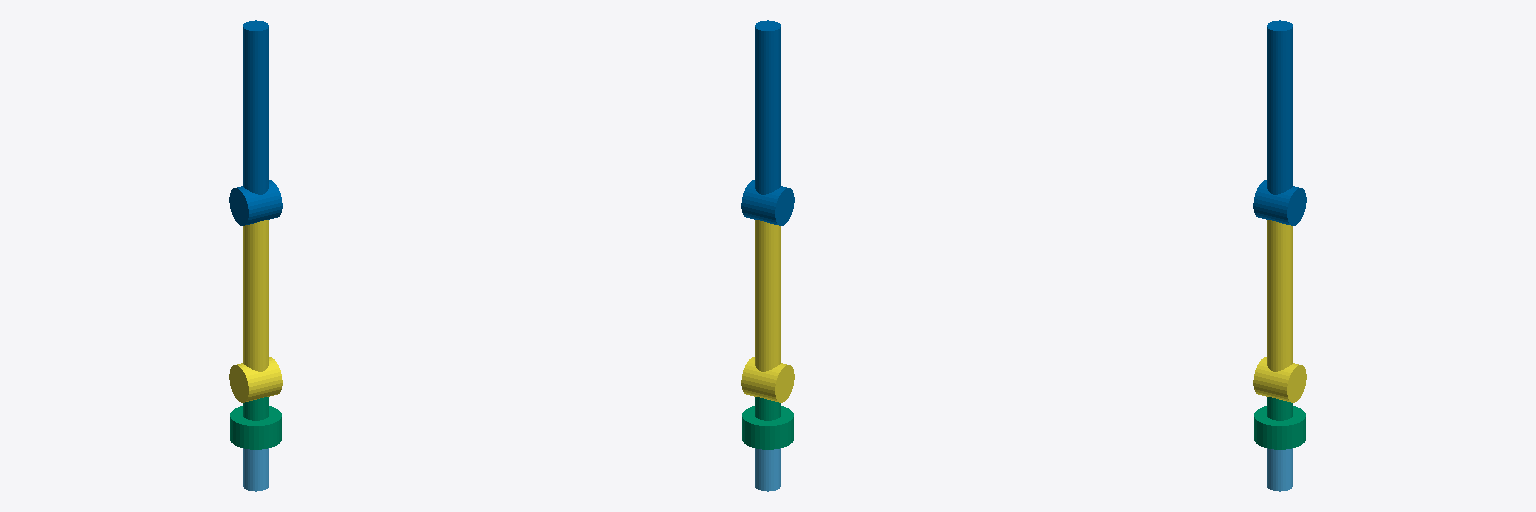
URDF robot description (Chaser):
<?xml version='1.0' encoding='UTF-8'?>
<robot name="Chaser">
  <link name="world">
    <inertial>
      <origin xyz="0.0 0.0 0.0" rpy="0.0 -0.0 0.0"/>
      <mass value="1.0"/>
      <inertia ixx="1.0" ixy="0.0" ixz="0.0" iyy="1.0" iyz="0.0" izz="1.0"/>
    </inertial>
  </link>
  <link name="Link_0">
    <inertial>
      <origin xyz="0.0 0.0 0.125" rpy="0.0 0.0 0.0"/>
      <mass value="5.0"/>
      <inertia ixx="0.05" ixy="0.0" ixz="0.0" iyy="0.05" iyz="0.0" izz="0.05"/>
    </inertial>
    <visual>
      <geometry>
        <cylinder radius="0.05" length="0.25"/>
      </geometry>
      <origin xyz="0.0 0.0 0.125" rpy="0.0 0.0 0.0"/>
    </visual>
    <collision>
      <geometry>
        <cylinder radius="0.05" length="0.25"/>
      </geometry>
      <origin xyz="0.0 0.0 0.125" rpy="0.0 0.0 0.0"/>
    </collision>
  </link>
  <link name="Link_1">
    <inertial>
      <origin xyz="0.0 0.0 0.1" rpy="0.0 0.0 0.0"/>
      <mass value="5.0"/>
      <inertia ixx="0.05" ixy="0.0" ixz="0.0" iyy="0.05" iyz="0.0" izz="0.05"/>
    </inertial>
    <visual>
      <geometry>
        <cylinder radius="0.05" length="0.2"/>
      </geometry>
      <origin xyz="0.0 0.0 0.1" rpy="0.0 0.0 0.0"/>
    </visual>
    <visual>
      <geometry>
        <cylinder radius="0.1" length="0.1"/>
      </geometry>
      <origin xyz="0.0 0.0 0.0" rpy="0.0 0.0 0.0"/>
    </visual>
    <collision>
      <geometry>
        <cylinder radius="0.05" length="0.2"/>
      </geometry>
      <origin xyz="0.0 0.0 0.1" rpy="0.0 0.0 0.0"/>
    </collision>
    <collision>
      <geometry>
        <cylinder radius="0.1" length="0.1"/>
      </geometry>
      <origin xyz="0.0 0.0 0.0" rpy="0.0 0.0 0.0"/>
    </collision>
  </link>
  <link name="Link_2">
    <inertial>
      <origin xyz="0.0 0.0 0.375" rpy="0.0 0.0 0.0"/>
      <mass value="10.0"/>
      <inertia ixx="0.1" ixy="0.0" ixz="0.0" iyy="0.1" iyz="0.0" izz="0.1"/>
    </inertial>
    <visual>
      <geometry>
        <cylinder radius="0.05" length="0.75"/>
      </geometry>
      <origin xyz="0.0 0.0 0.375" rpy="0.0 0.0 0.0"/>
    </visual>
    <visual>
      <geometry>
        <cylinder radius="0.075" length="0.15"/>
      </geometry>
      <origin xyz="0.0 0.0 0.0" rpy="-3.141592653589793 1.5707926535755432 -3.141592653589793"/>
    </visual>
    <collision>
      <geometry>
        <cylinder radius="0.05" length="0.75"/>
      </geometry>
      <origin xyz="0.0 0.0 0.375" rpy="0.0 0.0 0.0"/>
    </collision>
    <collision>
      <geometry>
        <cylinder radius="0.075" length="0.15"/>
      </geometry>
      <origin xyz="0.0 0.0 0.0" rpy="-3.141592653589793 1.5707926535755432 -3.141592653589793"/>
    </collision>
  </link>
  <link name="Link_3">
    <inertial>
      <origin xyz="0.0 0.0 0.375" rpy="0.0 0.0 0.0"/>
      <mass value="10.0"/>
      <inertia ixx="0.1" ixy="0.0" ixz="0.0" iyy="0.1" iyz="0.0" izz="0.1"/>
    </inertial>
    <visual>
      <geometry>
        <cylinder radius="0.05" length="0.75"/>
      </geometry>
      <origin xyz="0.0 0.0 0.375" rpy="0.0 0.0 0.0"/>
    </visual>
    <visual>
      <geometry>
        <cylinder radius="0.075" length="0.15"/>
      </geometry>
      <origin xyz="0.0 0.0 0.0" rpy="-3.141592653589793 1.5707926535755432 -3.141592653589793"/>
    </visual>
    <collision>
      <geometry>
        <cylinder radius="0.05" length="0.75"/>
      </geometry>
      <origin xyz="0.0 0.0 0.375" rpy="0.0 0.0 0.0"/>
    </collision>
    <collision>
      <geometry>
        <cylinder radius="0.075" length="0.15"/>
      </geometry>
      <origin xyz="0.0 0.0 0.0" rpy="-3.141592653589793 1.5707926535755432 -3.141592653589793"/>
    </collision>
  </link>
  <link name="Link_EE">
    <inertial>
      <origin xyz="0.0 0.0 0.0" rpy="0.0 0.0 0.0"/>
      <mass value="0.0"/>
      <inertia ixx="0.0" ixy="0.0" ixz="0.0" iyy="0.0" iyz="0.0" izz="0.0"/>
    </inertial>
    <collision>
      <geometry>
        <cylinder radius="0.0" length="0.0"/>
      </geometry>
      <origin xyz="0.0 0.0 0.0" rpy="0.0 0.0 0.0"/>
    </collision>
  </link>
  <joint name="world_joint" type="fixed">
    <parent link="world"/>
    <child link="Link_0"/>
    <axis xyz="0. 0. 0."/>
    <origin xyz="0.0 0.0 0.0" rpy="0.0 0.0 0.0"/>
  </joint>
  <joint name="Joint_1" type="revolute">
    <limit effort="100.0" velocity="1.0" lower="-3.14" upper="3.14"/>
    <parent link="Link_0"/>
    <child link="Link_1"/>
    <axis xyz="0. 0. 1."/>
    <origin xyz="0.0 0.0 0.25" rpy="0.0 0.0 0.0"/>
  </joint>
  <joint name="Joint_2" type="revolute">
    <limit effort="100.0" velocity="1.0" lower="-3.14" upper="3.14"/>
    <parent link="Link_1"/>
    <child link="Link_2"/>
    <axis xyz="1. 0. 0."/>
    <origin xyz="0.0 0.0 0.2" rpy="0.0 0.0 0.0"/>
  </joint>
  <joint name="Joint_3" type="revolute">
    <limit effort="100.0" velocity="1.0" lower="-3.14" upper="3.14"/>
    <parent link="Link_2"/>
    <child link="Link_3"/>
    <axis xyz="1. 0. 0."/>
    <origin xyz="0.0 0.0 0.75" rpy="0.0 0.0 0.0"/>
  </joint>
  <joint name="Joint_EE" type="fixed">
    <parent link="Link_3"/>
    <child link="Link_EE"/>
    <axis xyz="1. 0. 0."/>
    <origin xyz="0.0 0.0 0.75" rpy="0.0 0.0 0.0"/>
  </joint>
</robot>

--- Render facts (derived) ---
Views: 3 orthographic renders of the robot side by side, from view 1: azimuth 30°, elevation 25°; view 2: azimuth 150°, elevation 25°; view 3: azimuth 330°, elevation 25°.
Robot: Chaser — 6 links, 5 joints (3 revolute, 2 fixed); root link world; default pose: all joints at 0.
Visible links, largest first — view 1: Link_3, Link_2, Link_1, Link_0; view 2: Link_3, Link_2, Link_1, Link_0; view 3: Link_3, Link_2, Link_1, Link_0.
Boxes of the visible links, x1=… form: Link_3: x1=229, y1=20, x2=282, y2=225; Link_2: x1=229, y1=220, x2=282, y2=402; Link_1: x1=230, y1=397, x2=281, y2=449; Link_0: x1=243, y1=448, x2=268, y2=491; Link_3: x1=741, y1=20, x2=794, y2=225; Link_2: x1=741, y1=220, x2=794, y2=402; Link_1: x1=742, y1=397, x2=793, y2=449; Link_0: x1=755, y1=448, x2=780, y2=491; Link_3: x1=1253, y1=20, x2=1306, y2=225; Link_2: x1=1253, y1=220, x2=1306, y2=402; Link_1: x1=1254, y1=397, x2=1305, y2=449; Link_0: x1=1267, y1=448, x2=1292, y2=491.
Size in the robot's own frame: 0.2 by 0.2 by 1.95 metres.
Geometry: primitives only (box / cylinder / sphere), no mesh files.